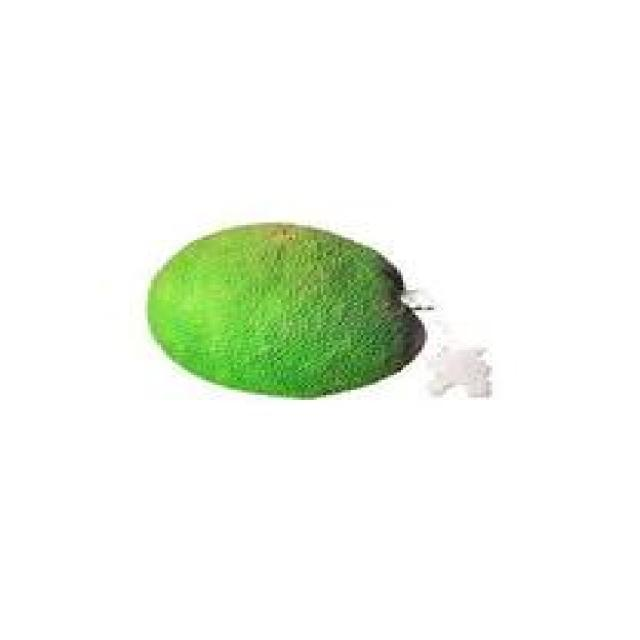Fruit: (123, 195, 449, 430)
